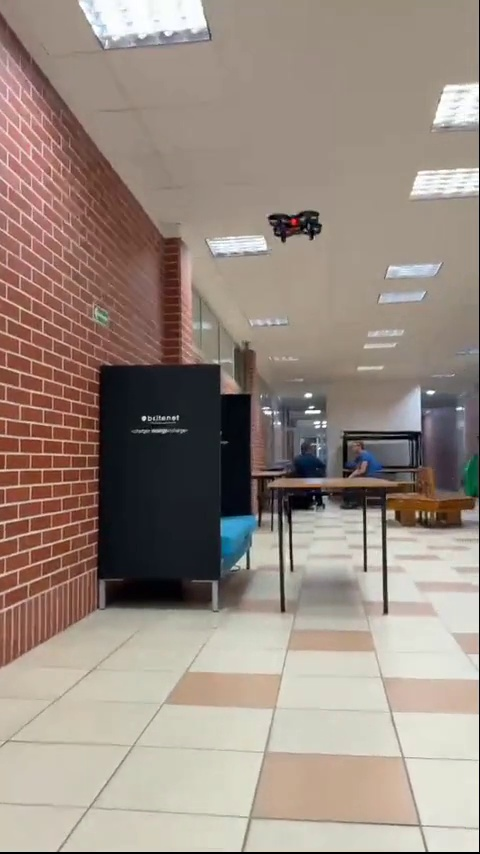drone: (268, 210, 322, 243)
no vest: (337, 430, 388, 481), (282, 436, 324, 478)
